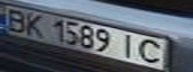1: (42, 16, 66, 43)
5: (60, 19, 81, 47)
8: (75, 24, 96, 51)
9: (93, 26, 115, 55)
B: (0, 7, 33, 34)
C: (133, 37, 172, 65)
I: (115, 33, 142, 60)
K: (21, 11, 51, 38)
